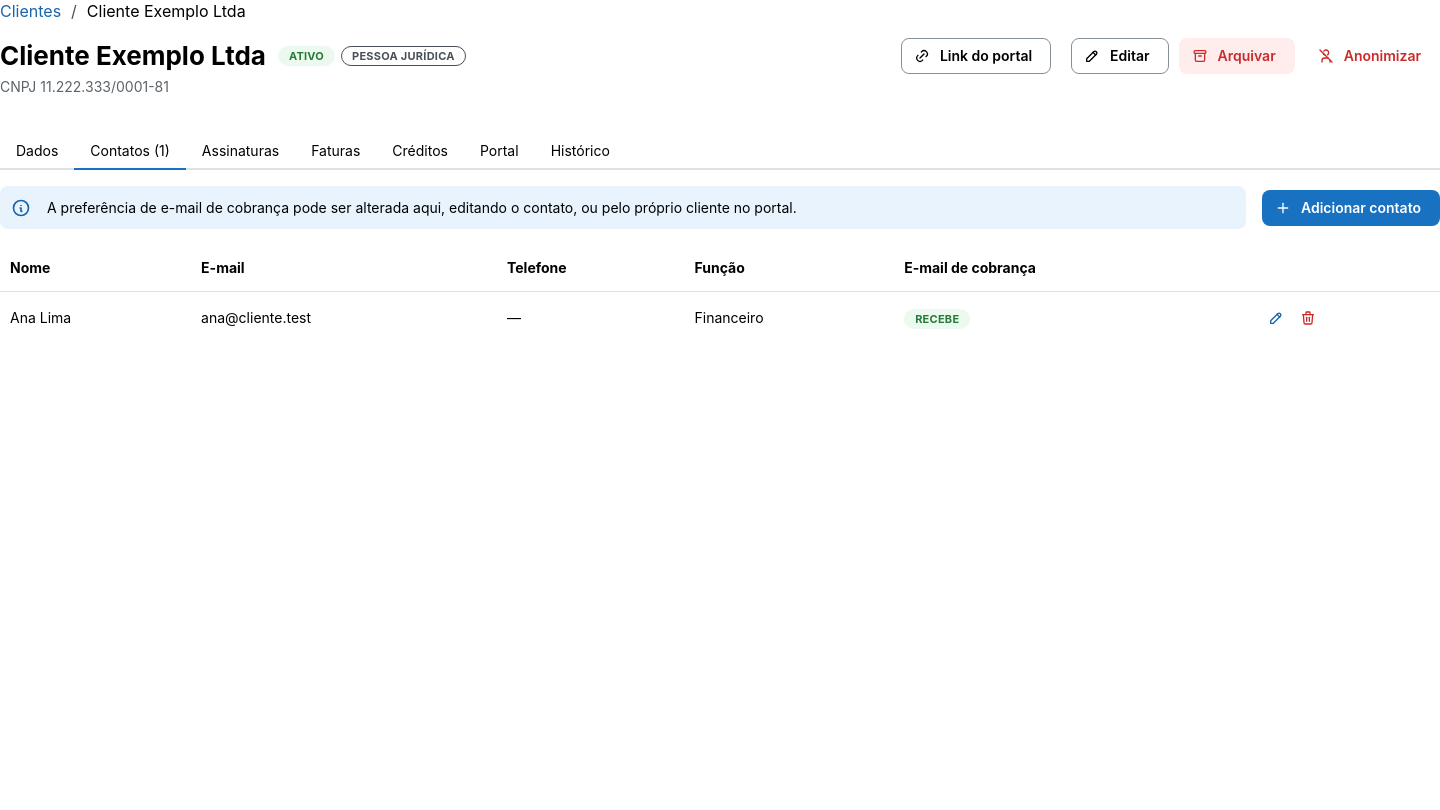
Scenario: contatos do cliente › edita o contato com os dados atuais preenchidos e envia a alteração
The image size is (1440, 810).
Click the button named "Editar contato Ana Lima" at (1276, 318), box [1262,304,1290,332]
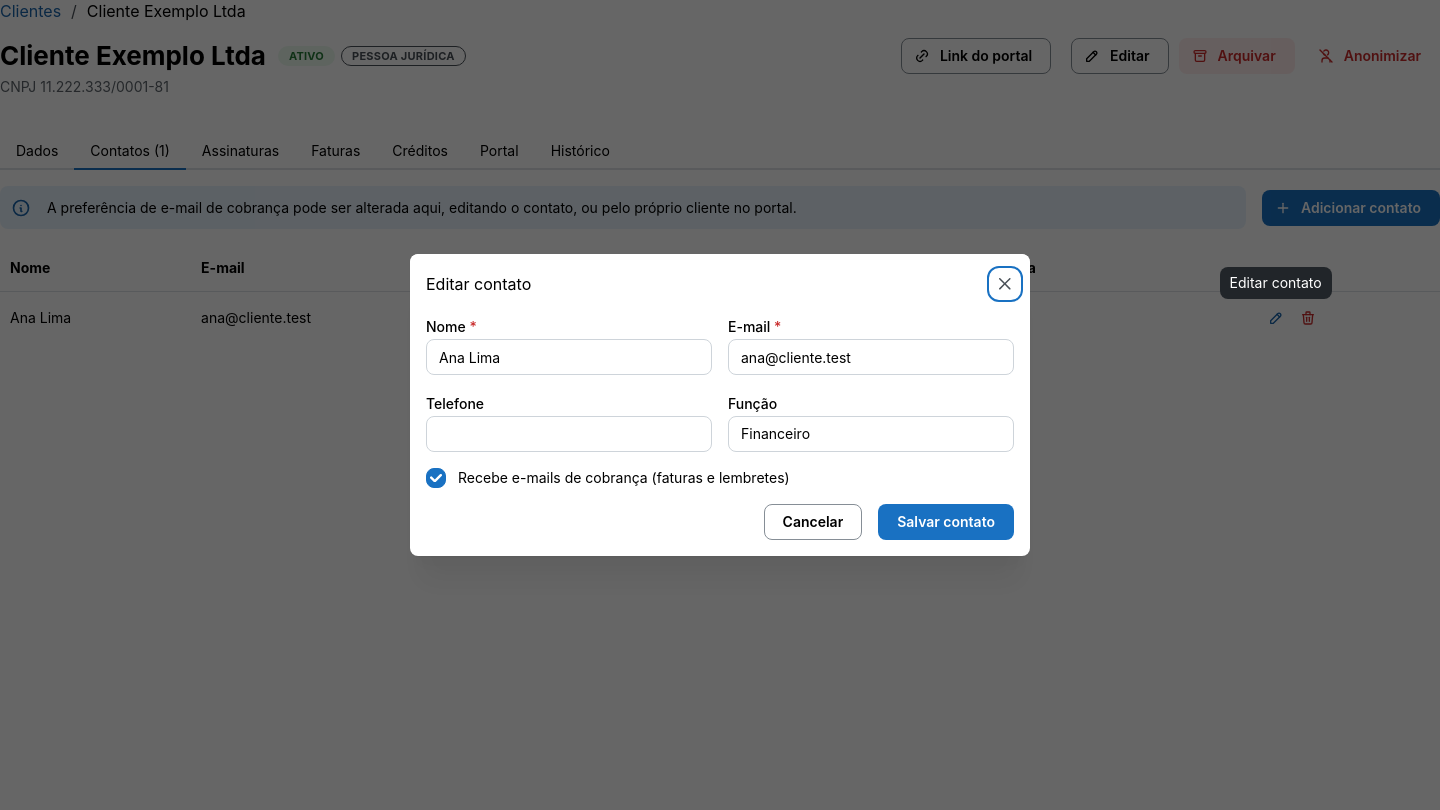
Check: the field labelled "Nome *" holds "Ana Lima", box [426,339,712,375]
Check: the field labelled "Função" holds "Financeiro", box [728,416,1014,452]
Check: the field labelled "E-mail *" holds "ana@cliente.test"
Replace the text in the field labelled "E-mail *" with "ana.lima@cliente.test" at (871, 357), box [728,339,1014,375]
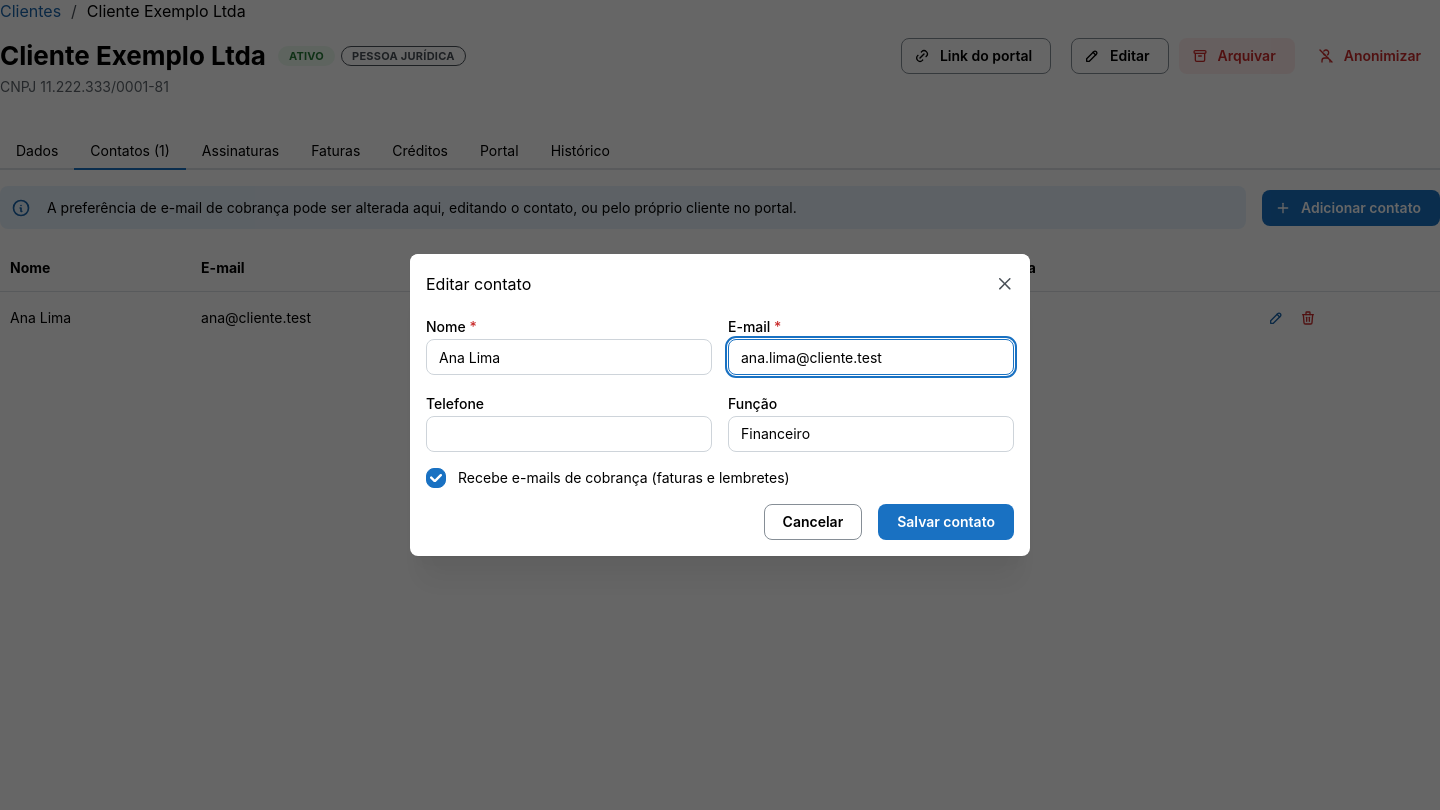
Click the checkbox labelled "Recebe e-mails de cobrança (faturas e lembretes)" at (436, 478), box [426,468,446,488]
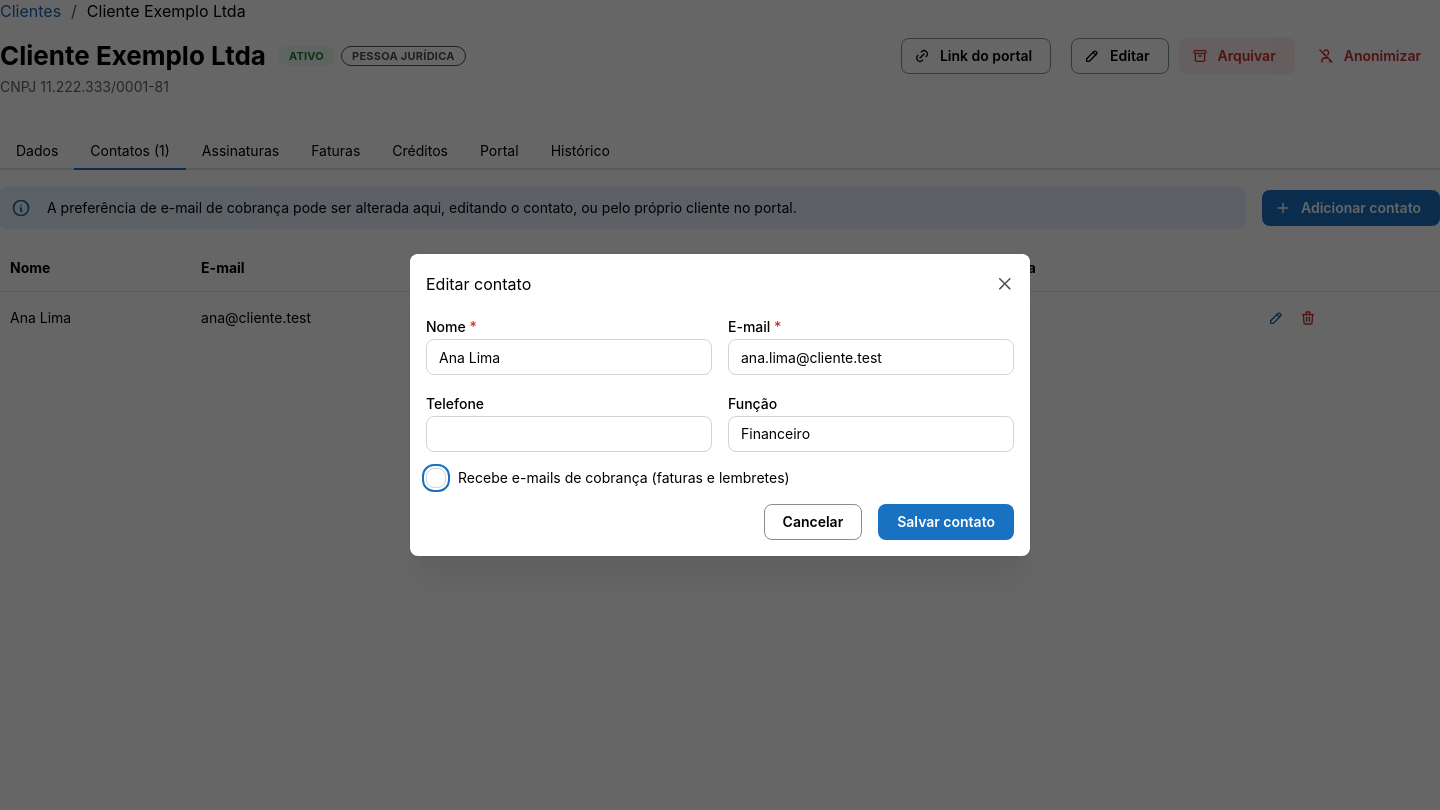
Click the button "Salvar contato" at (946, 522), box [878,504,1014,540]
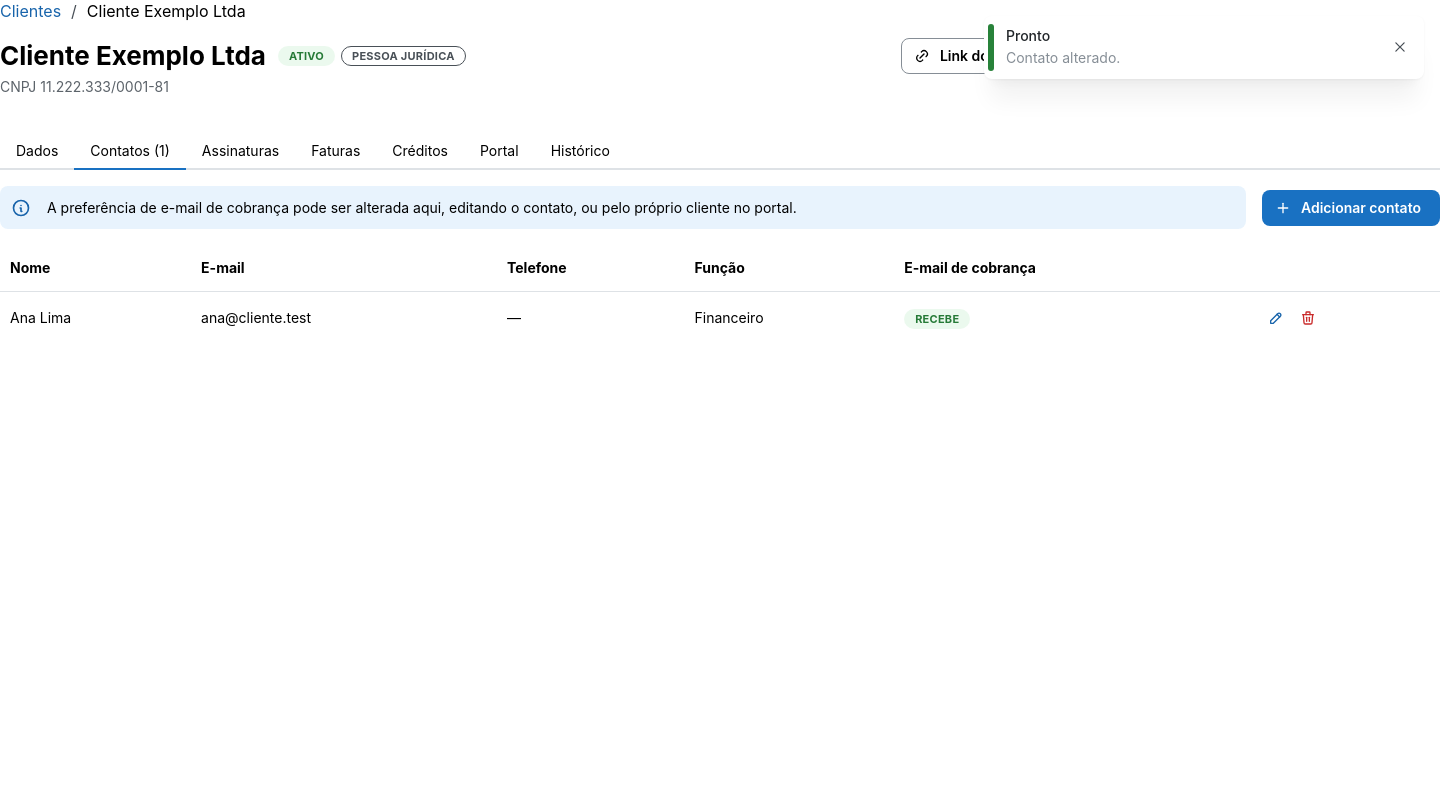
Check: the text "Contato alterado." is shown, box [1006,49,1120,66]
Check: the heading "Editar contato" is gone
